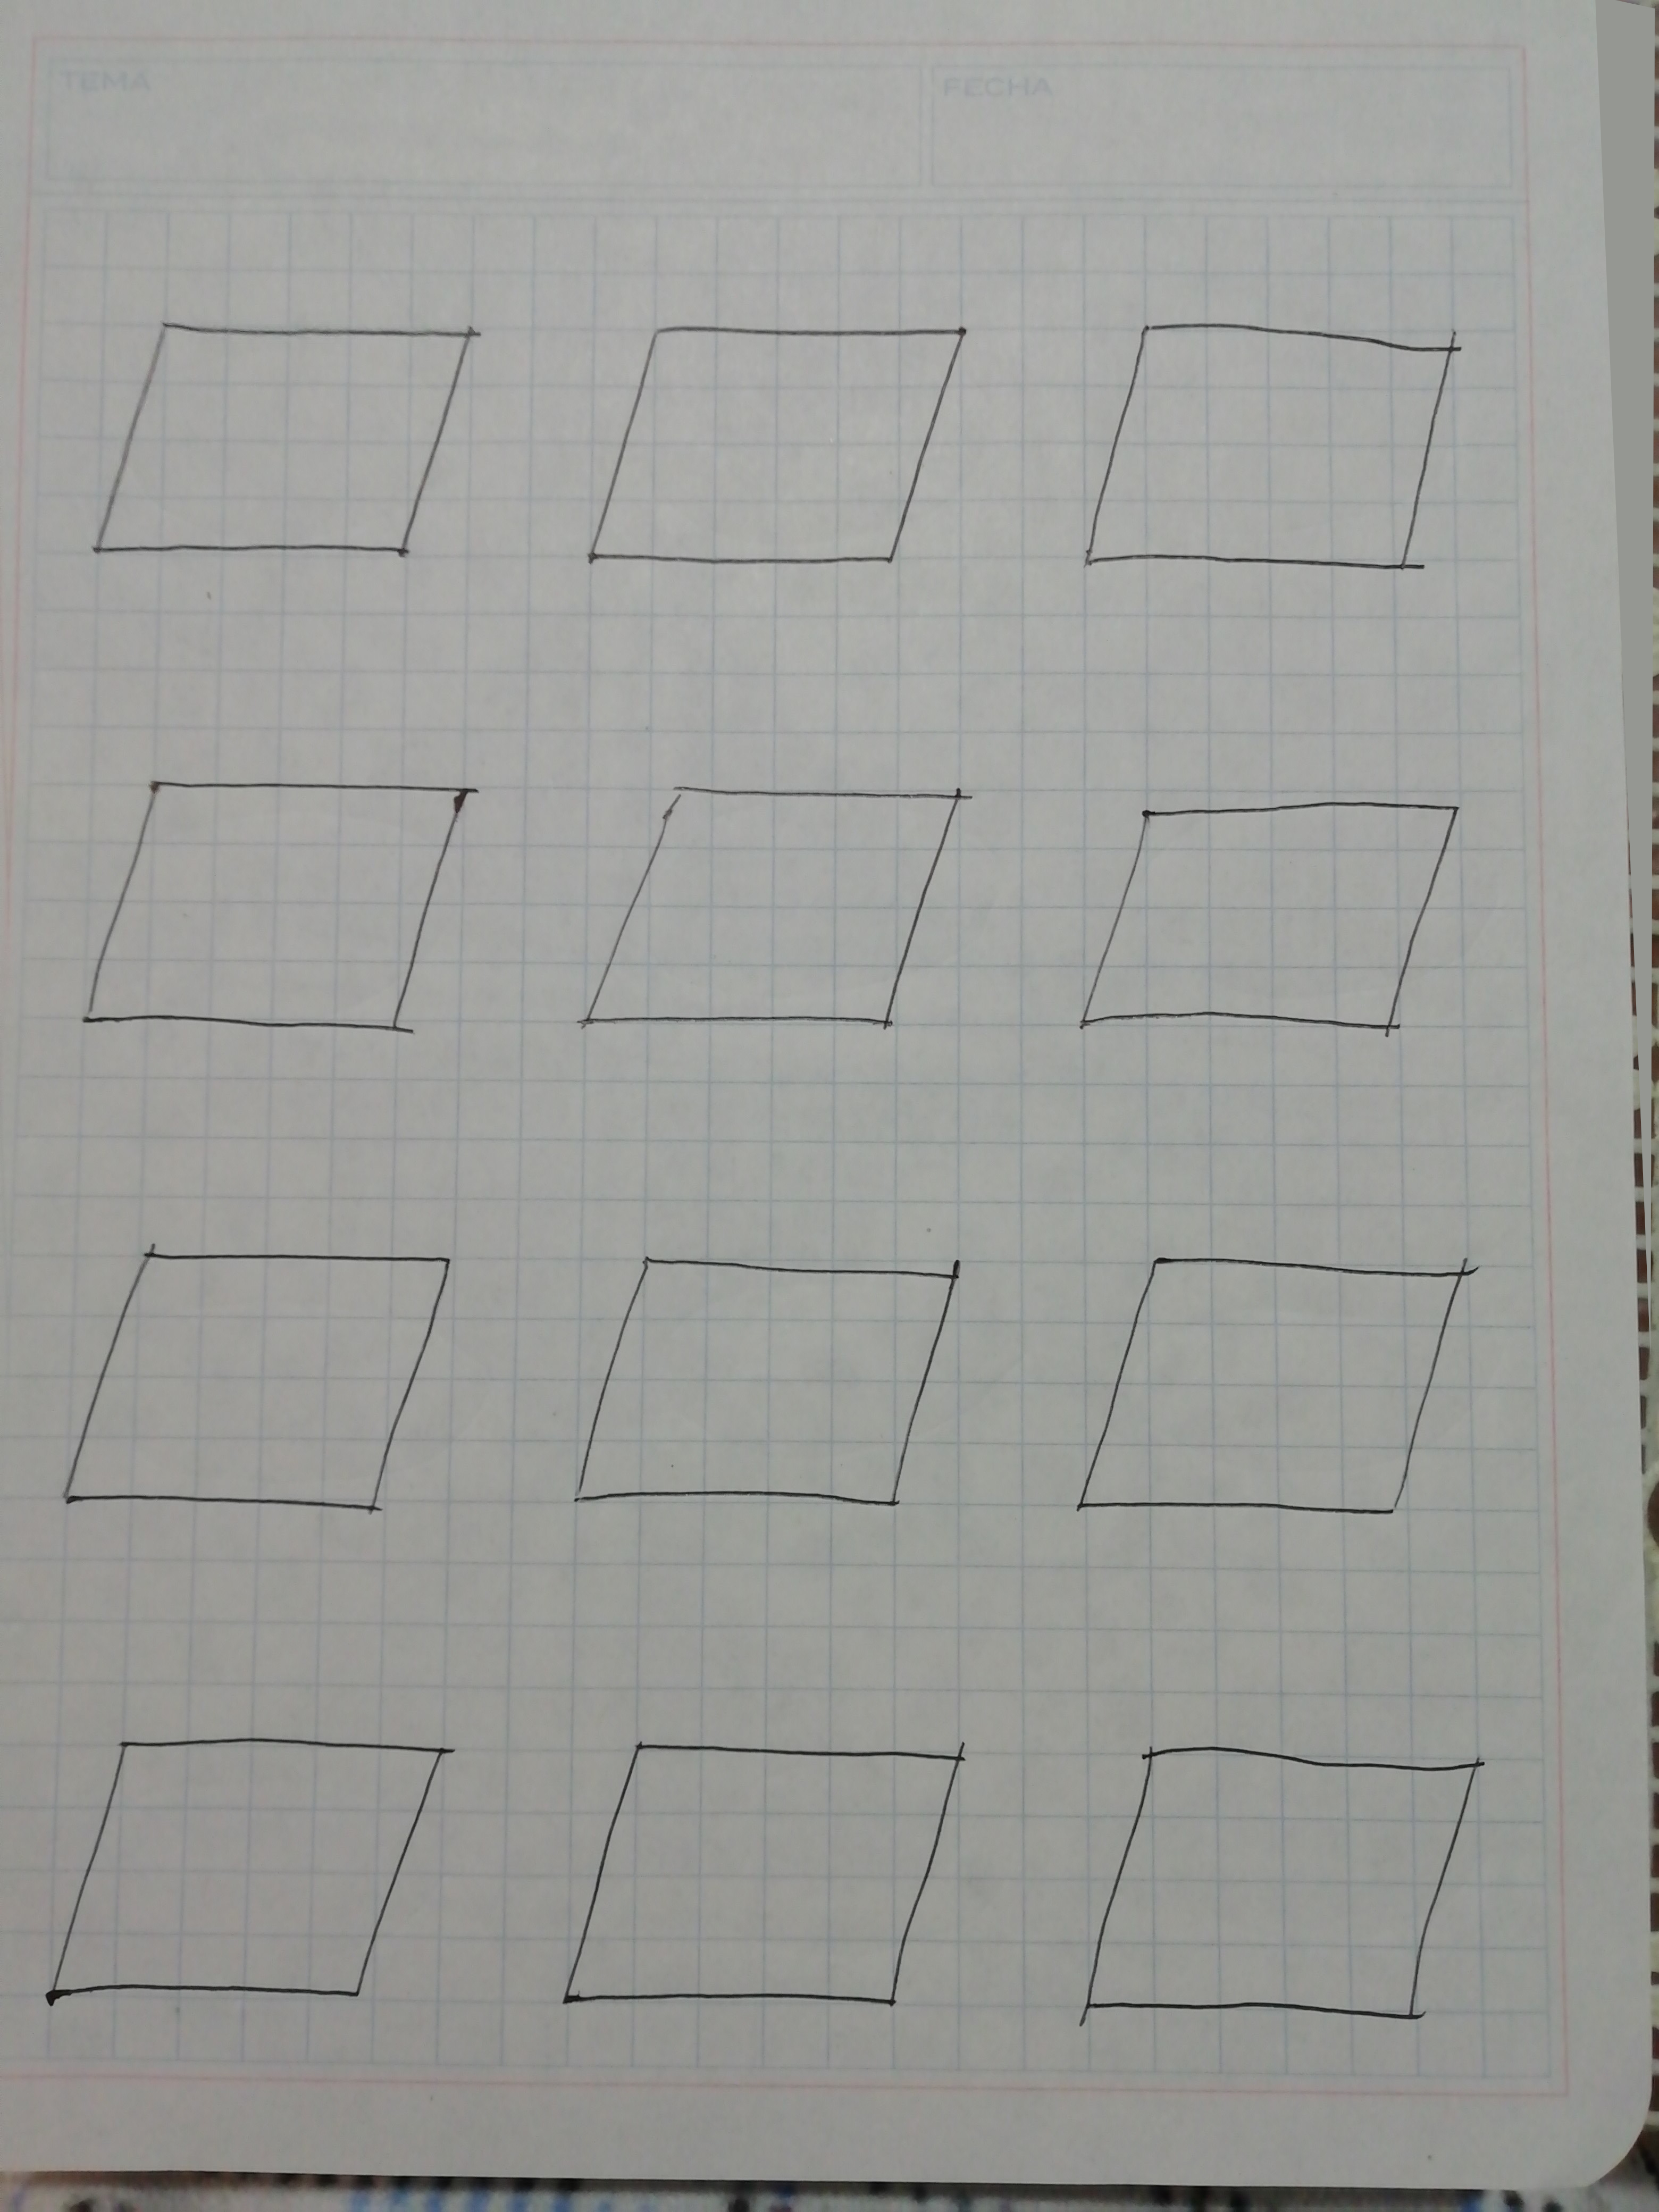scan: (19, 733, 537, 1089), (9, 1681, 484, 2048), (26, 1209, 486, 1575), (530, 1223, 1023, 1552), (1072, 1716, 1530, 2064), (533, 1705, 997, 2041), (1040, 284, 1486, 627), (554, 280, 986, 631), (1040, 1226, 1507, 1548), (1051, 766, 1497, 1092), (66, 287, 509, 613), (568, 756, 1002, 1082)
